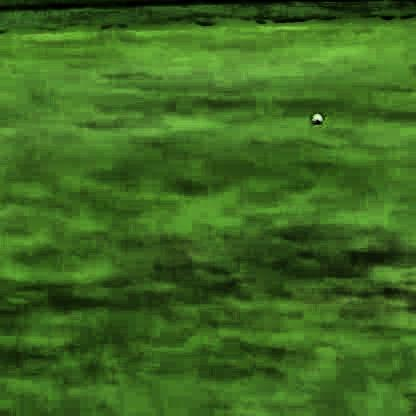golfball: (306, 111, 322, 124)
